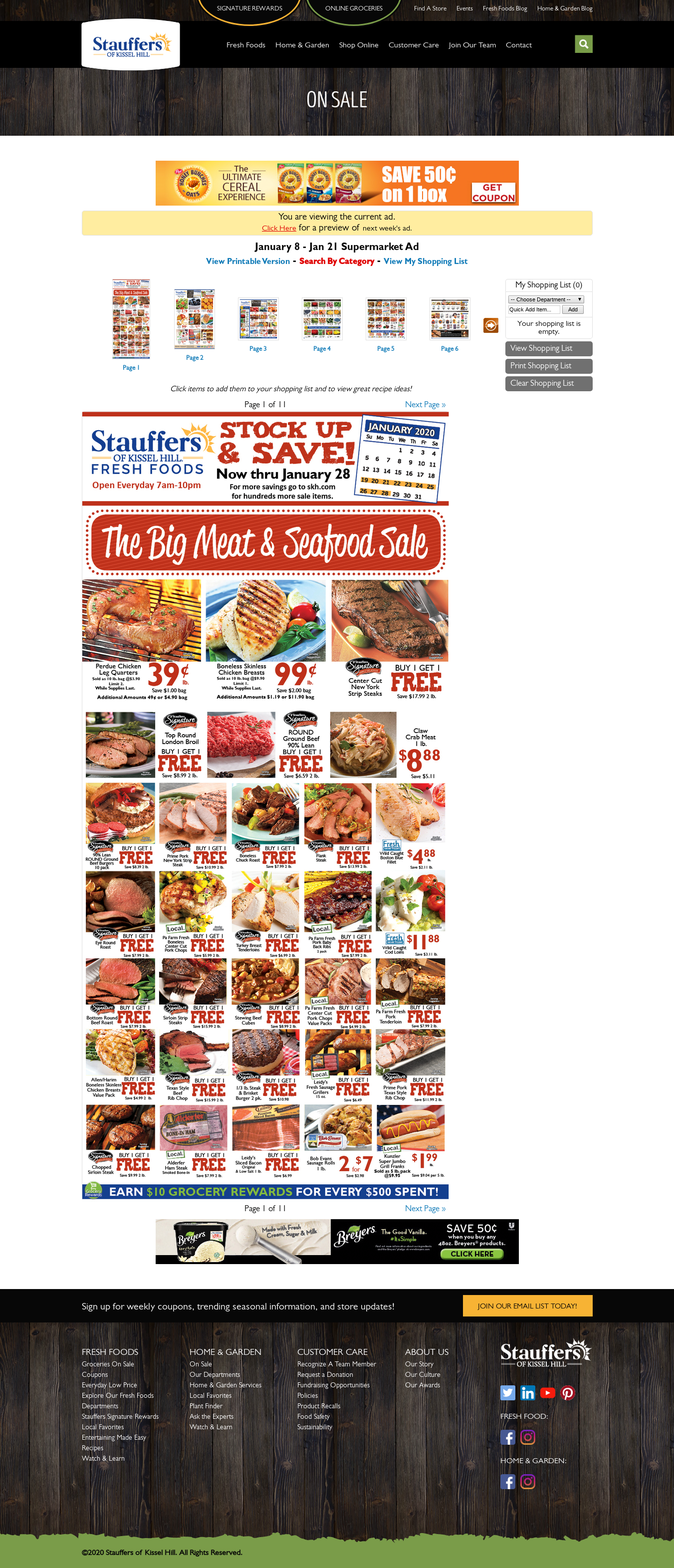fake_button: (438, 1248, 506, 1262)
